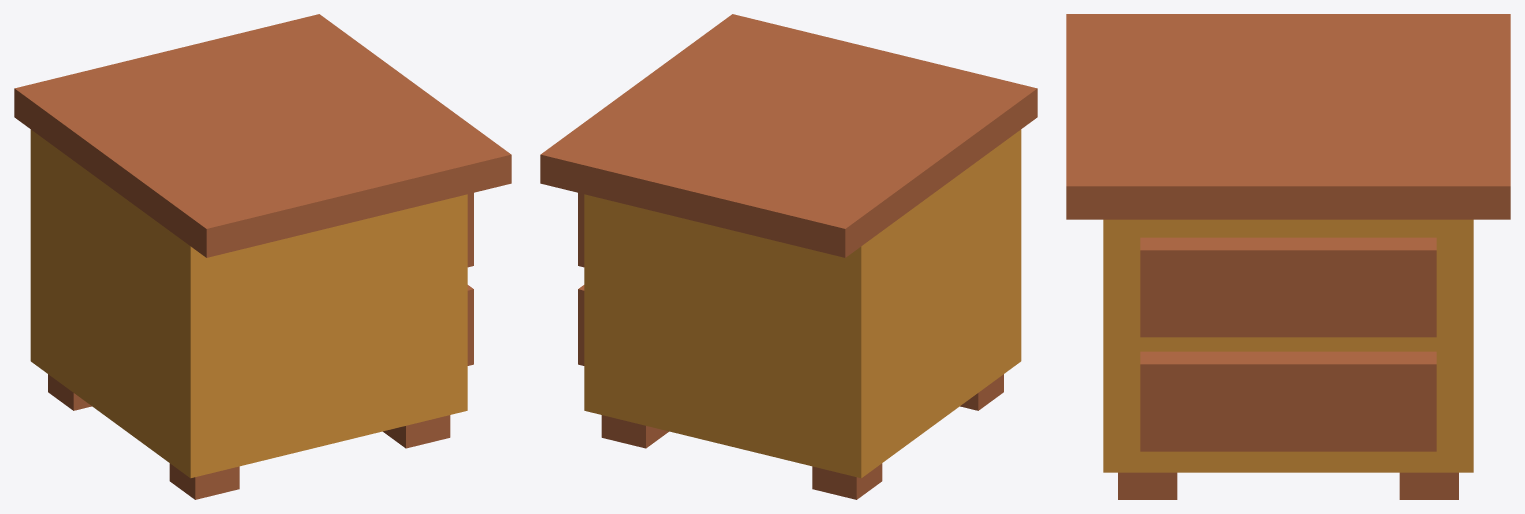
File: nightstand.fbx
The picture shows the model from 3 angles, left to right: view 1: azimuth 30°, elevation 25°; view 2: azimuth 150°, elevation 25°; view 3: azimuth 270°, elevation 25°; orthographic projection. The views are drawn at different scales.
Parts seen in each view (by area): view 1: Cube.016; view 2: Cube.016; view 3: Cube.016.
Part boxes in pixels (<box>): Cube.016: <box>14,14,511,499</box>; Cube.016: <box>540,14,1037,499</box>; Cube.016: <box>1066,14,1510,499</box>.
Size of the model in its own units: 55 by 50 by 60.
